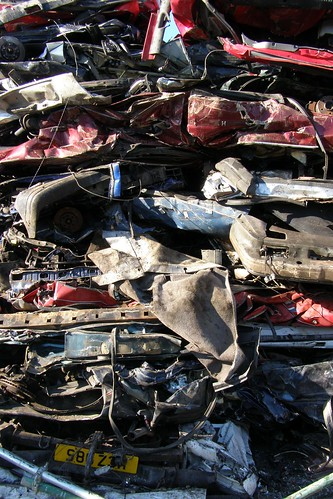trash: (1, 1, 322, 474)
